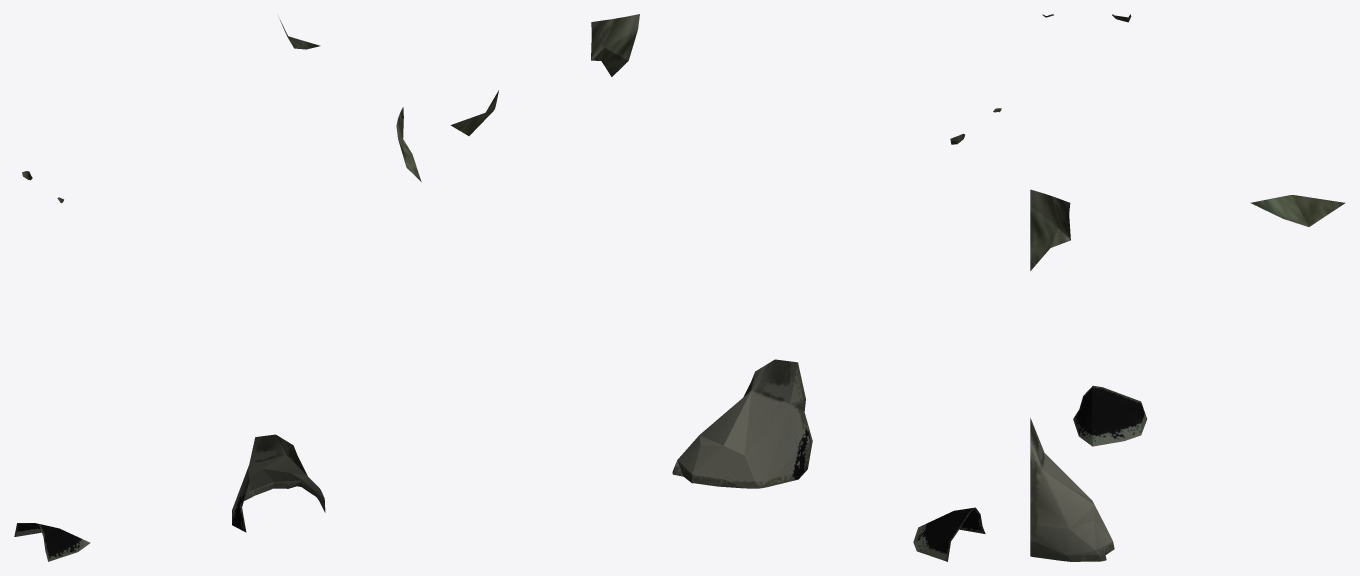
The picture shows the model from 3 angles, left to right: view 1: azimuth 30°, elevation 25°; view 2: azimuth 150°, elevation 25°; view 3: azimuth 270°, elevation 25°; orthographic projection. The views are drawn at different scales.
Size of the model in its own units: 5.9 by 5.9 by 4.16.
1 material, 1 textured.
